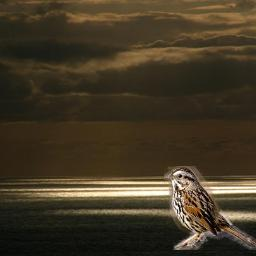Sparrow: (164, 166, 256, 250)
